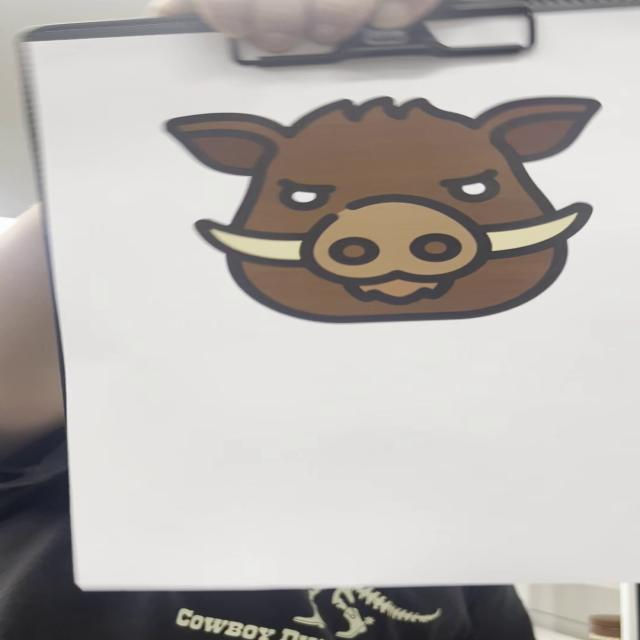animal: (161, 93, 607, 326)
